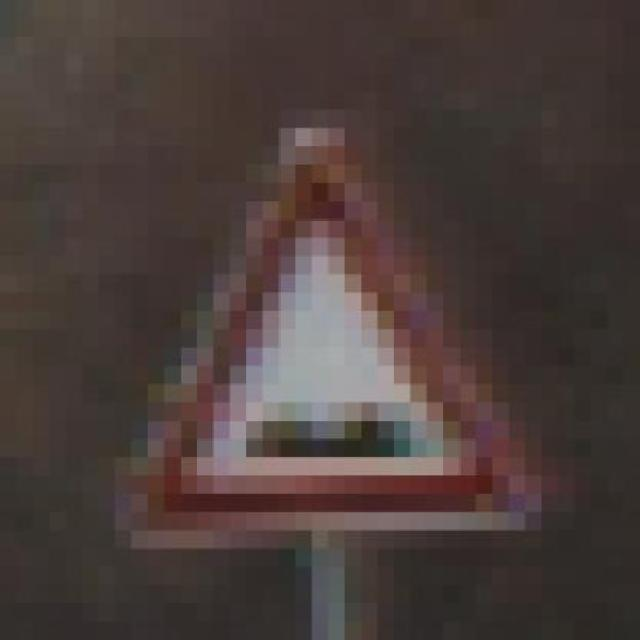Uneven Road: (99, 110, 542, 567)
